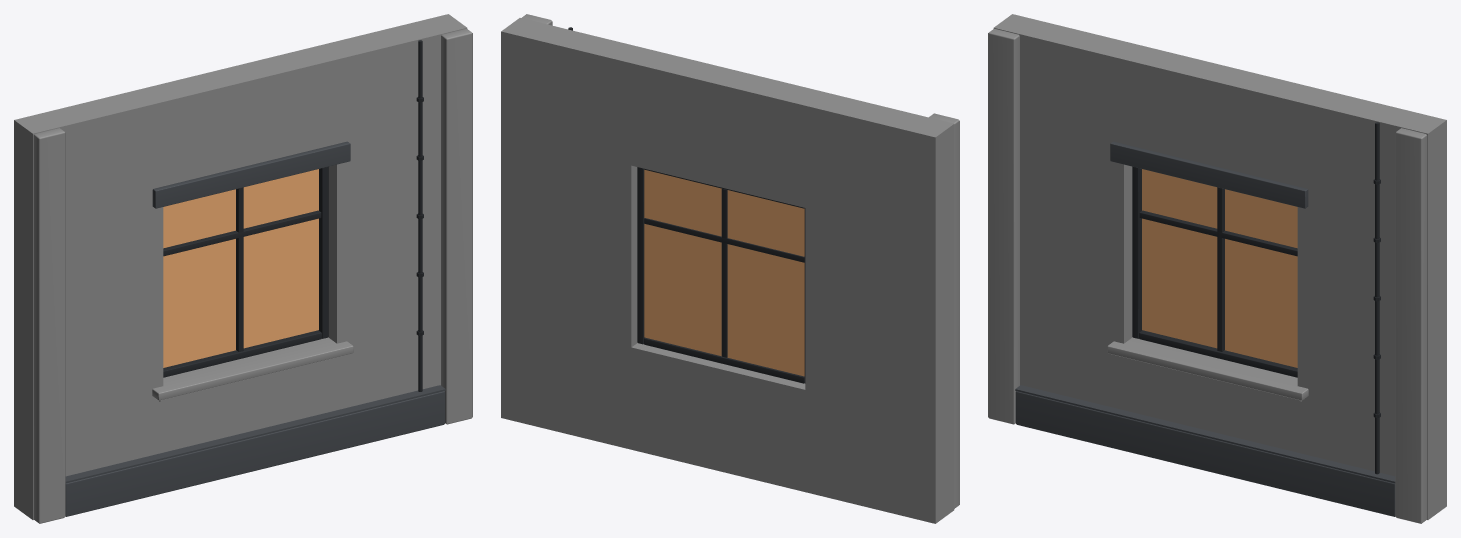
Rendered from Facade_Plaster_Window_Lit.fbx.
3 views of the same model, side by side, from view 1: azimuth 30°, elevation 25°; view 2: azimuth 150°, elevation 25°; view 3: azimuth 330°, elevation 25° (orthographic).
Visible parts, largest first — view 1: Facade_Plaster_Window_Lit_LOD0; view 2: Facade_Plaster_Window_Lit_LOD0; view 3: Facade_Plaster_Window_Lit_LOD0.
Boxes of the visible parts, <box> form: Facade_Plaster_Window_Lit_LOD0: <box>14,14,472,523</box>; Facade_Plaster_Window_Lit_LOD0: <box>501,14,959,523</box>; Facade_Plaster_Window_Lit_LOD0: <box>988,14,1446,523</box>.
Size of what is drawn, in the model's own units: 4 by 3.4 by 0.4.
